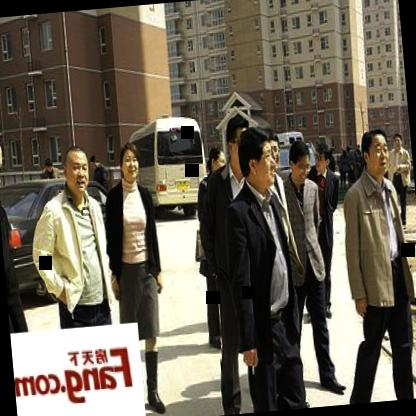head: (234, 122, 278, 193), (357, 126, 393, 184), (61, 141, 94, 202), (224, 114, 252, 181), (113, 138, 146, 185), (287, 140, 315, 188), (204, 146, 231, 188), (264, 132, 286, 180), (0, 115, 9, 207), (313, 140, 335, 174), (391, 130, 405, 153)
